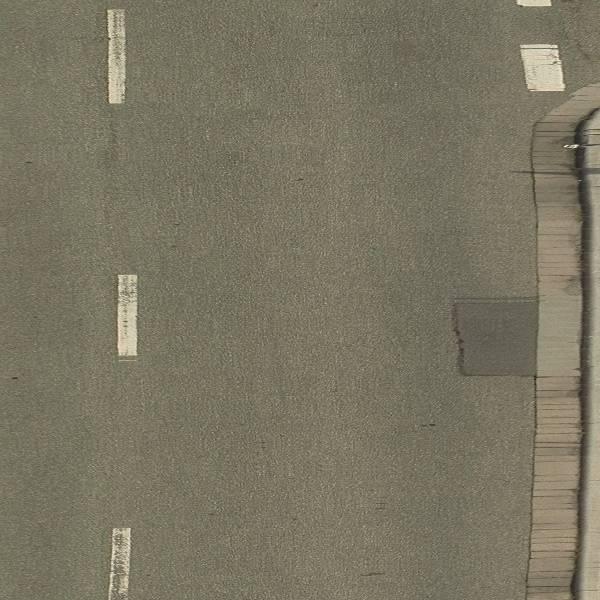road_damage: (439, 288, 531, 386)
